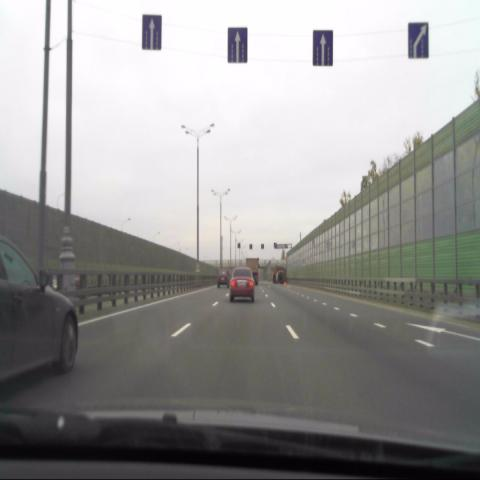5_15_2: (313, 29, 334, 66), (142, 12, 162, 49), (227, 27, 247, 63), (408, 22, 428, 58)
